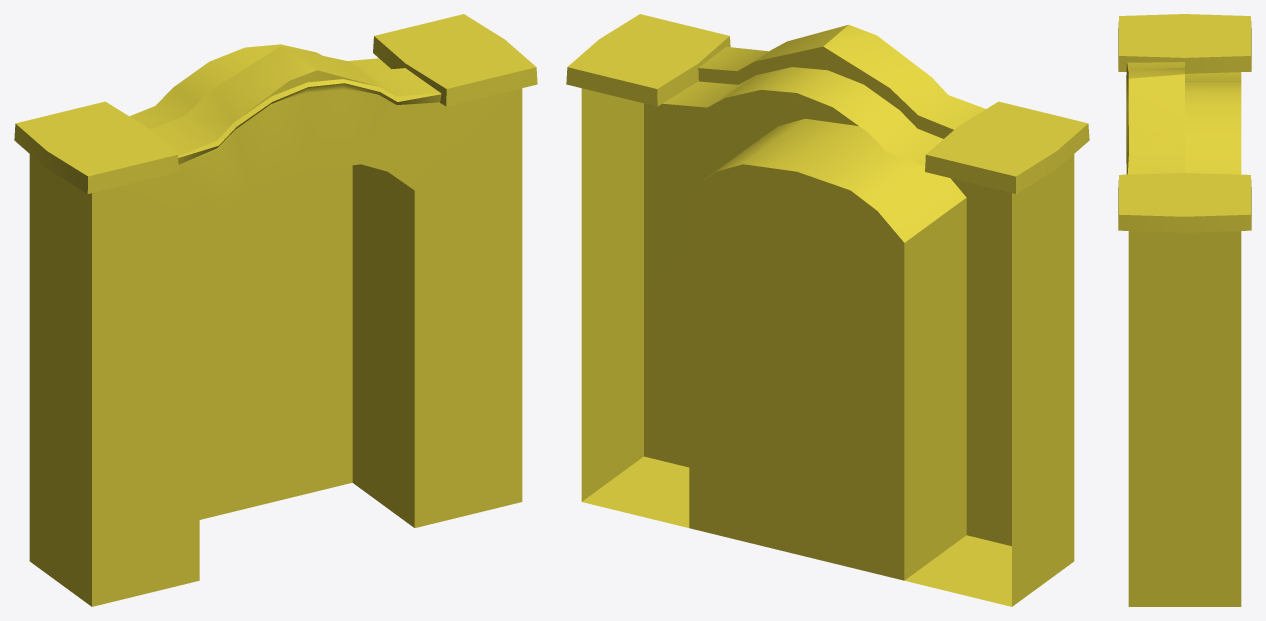
File: BordaPortaPrincipalLow.fbx
3 views of the same model, side by side, from view 1: azimuth 30°, elevation 25°; view 2: azimuth 150°, elevation 25°; view 3: azimuth 270°, elevation 25° (orthographic). The views are drawn at different scales.
Parts seen in each view (by area): view 1: BordaPortaPrincipalLow; view 2: BordaPortaPrincipalLow; view 3: BordaPortaPrincipalLow.
Part boxes in pixels (bbox=[...]): BordaPortaPrincipalLow: bbox=[14, 14, 537, 606]; BordaPortaPrincipalLow: bbox=[566, 14, 1089, 606]; BordaPortaPrincipalLow: bbox=[1118, 14, 1251, 606].
Bounding box in the file's own units: 427 × 430 × 118.
